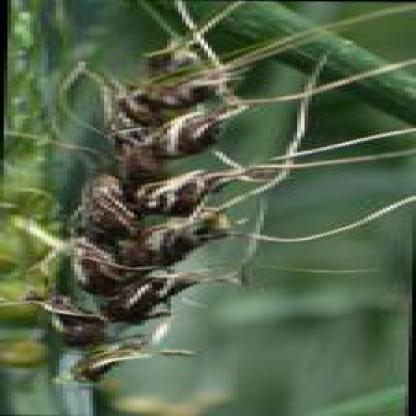Wheat Smut: (72, 177, 134, 245), (56, 250, 130, 290), (148, 170, 221, 210), (41, 298, 106, 340), (148, 221, 211, 254), (159, 107, 206, 149), (166, 68, 216, 102), (98, 134, 139, 174), (104, 86, 144, 126), (74, 349, 113, 379), (124, 290, 172, 313), (155, 272, 179, 287)
